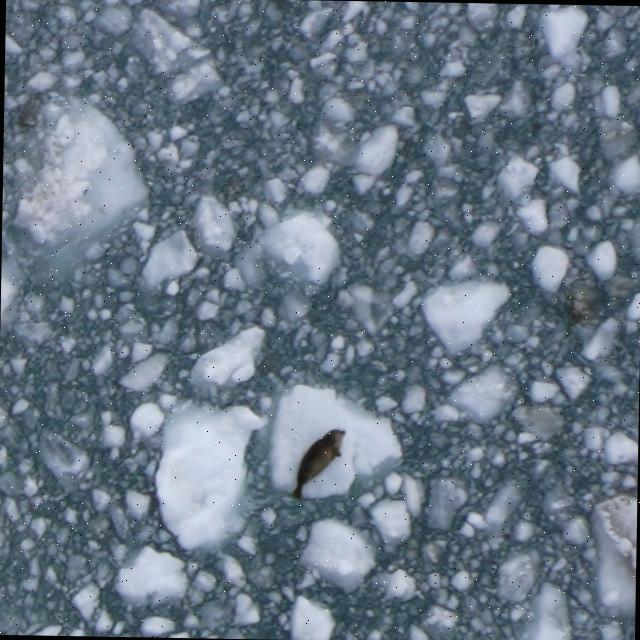seal: (287, 422, 349, 503)
